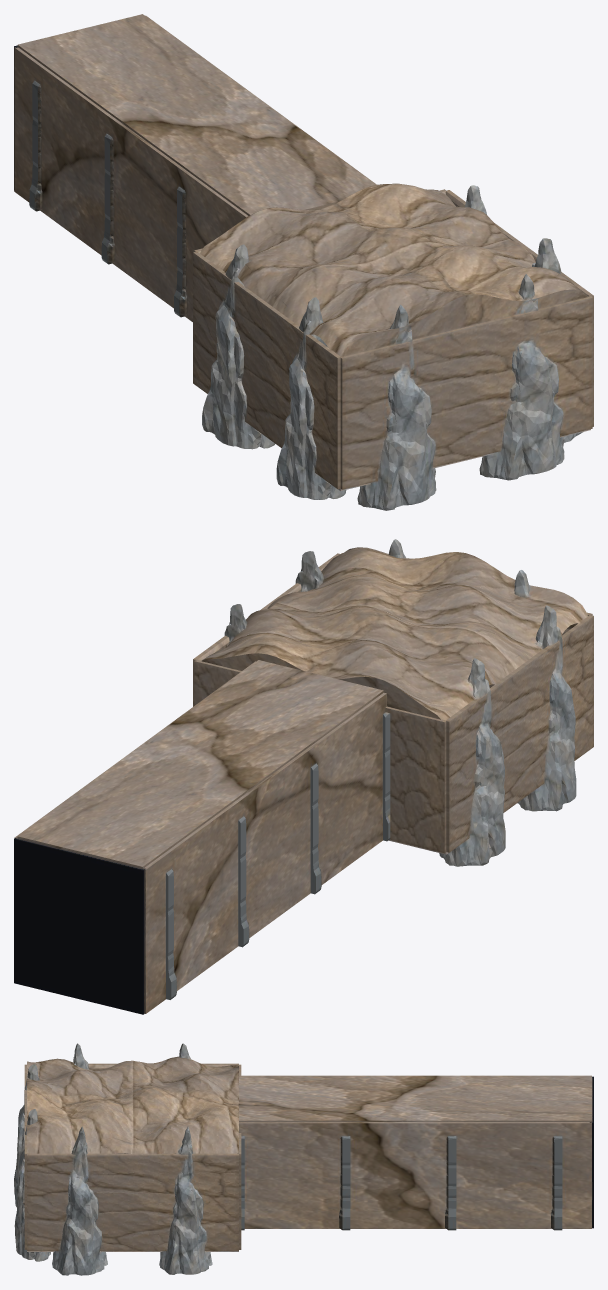
File: room.glb
The picture shows the model from 3 angles, top to bottom: view 1: azimuth 30°, elevation 25°; view 2: azimuth 150°, elevation 25°; view 3: azimuth 270°, elevation 25°; orthographic projection. The views are drawn at different scales.
Parts seen in each view (by area): view 1: CAGE-ROOM; view 2: CAGE-ROOM; view 3: CAGE-ROOM.
Part boxes in pixels (x1,y1,x2,y2): CAGE-ROOM: (14,14,593,510); CAGE-ROOM: (14,539,593,1014); CAGE-ROOM: (14,1043,593,1275).
Size of the model in its own units: 6.89 by 4.35 by 16.43.
Materials: 1 (1 with a texture image).
